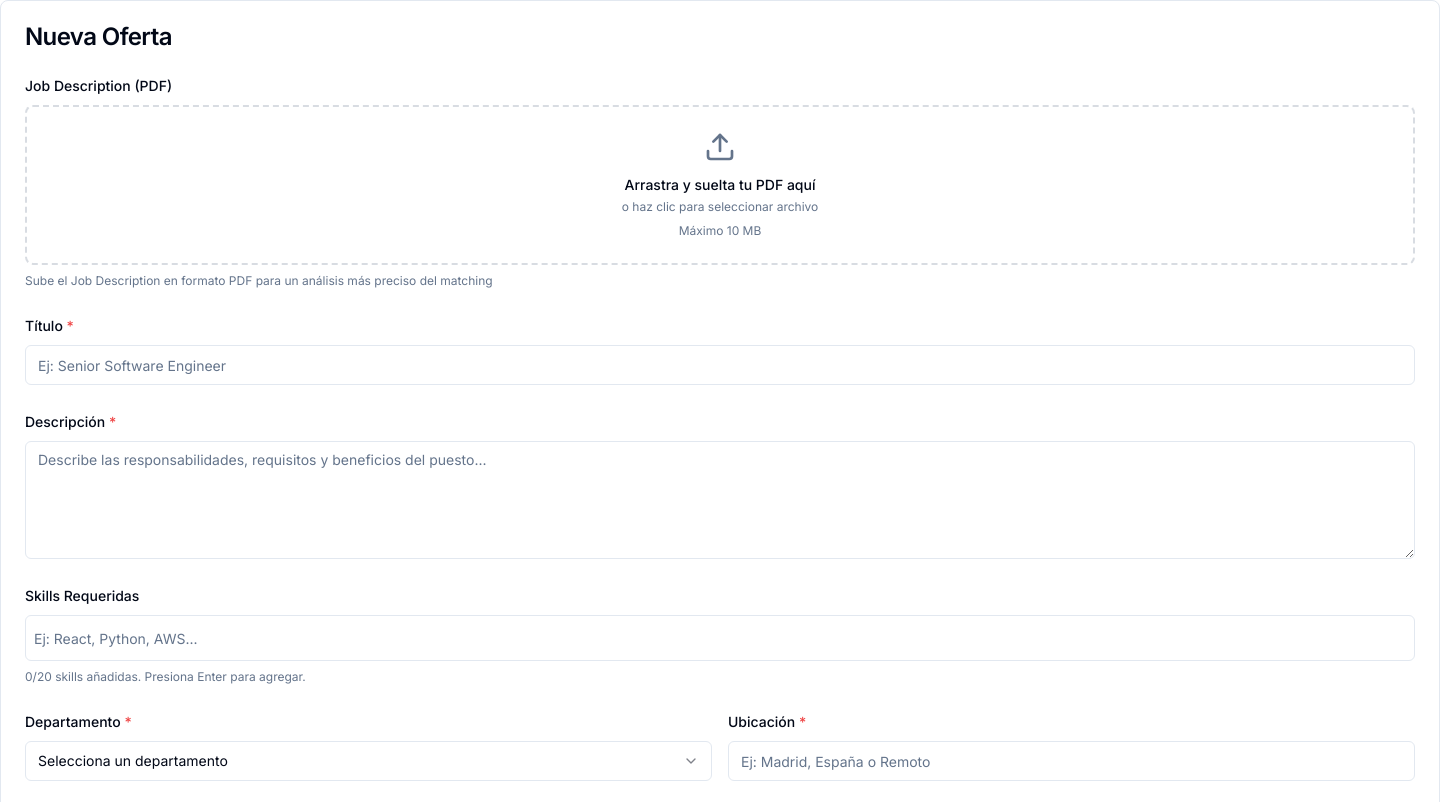
Test case: JobForm › allows adding skills via TagsInput
In the field with placeholder "Ej: React, Python, AWS...": (720, 638) [34, 624, 1406, 652], type "JavaScript"
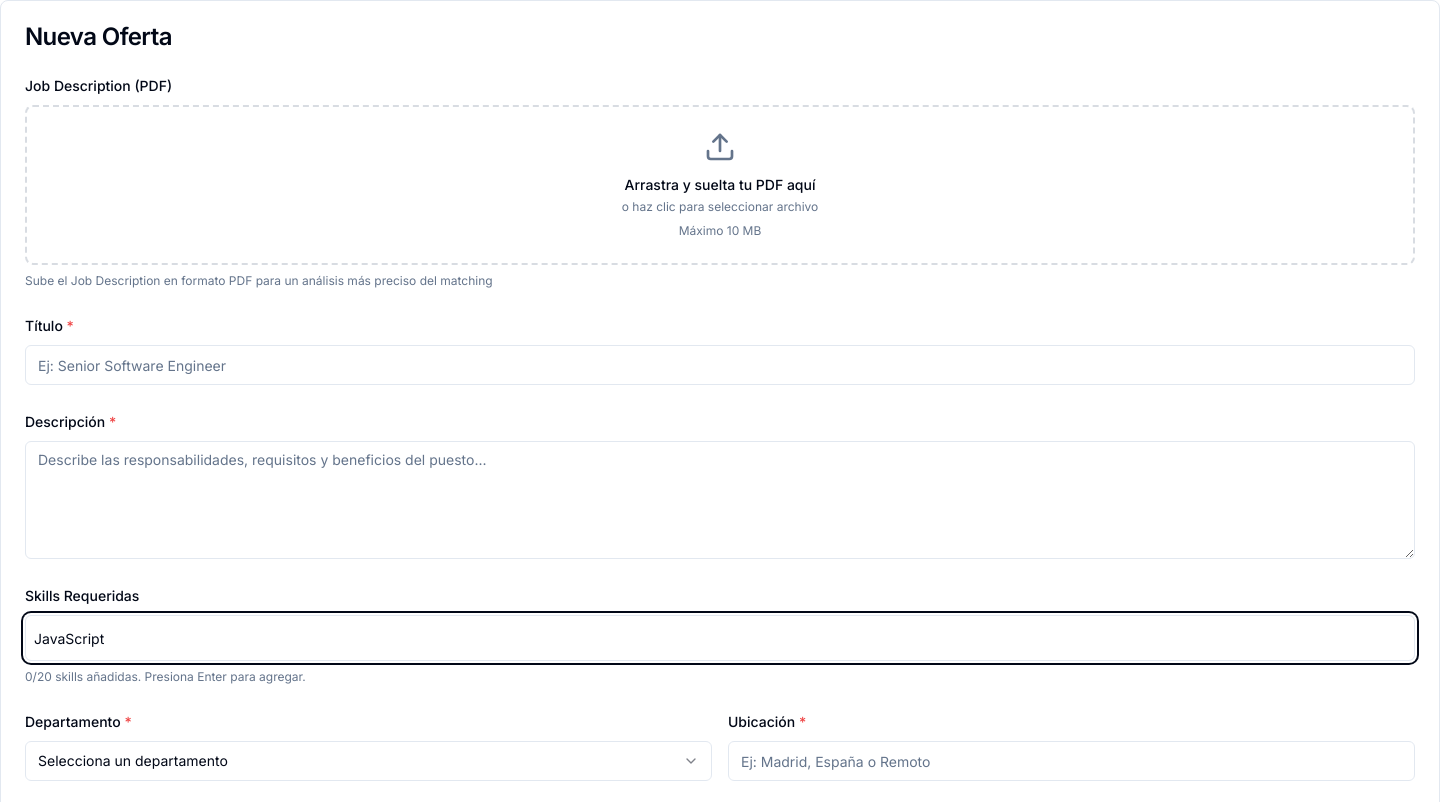
Press Enter in the field with placeholder "Ej: React, Python, AWS...", box [34, 624, 1406, 652]
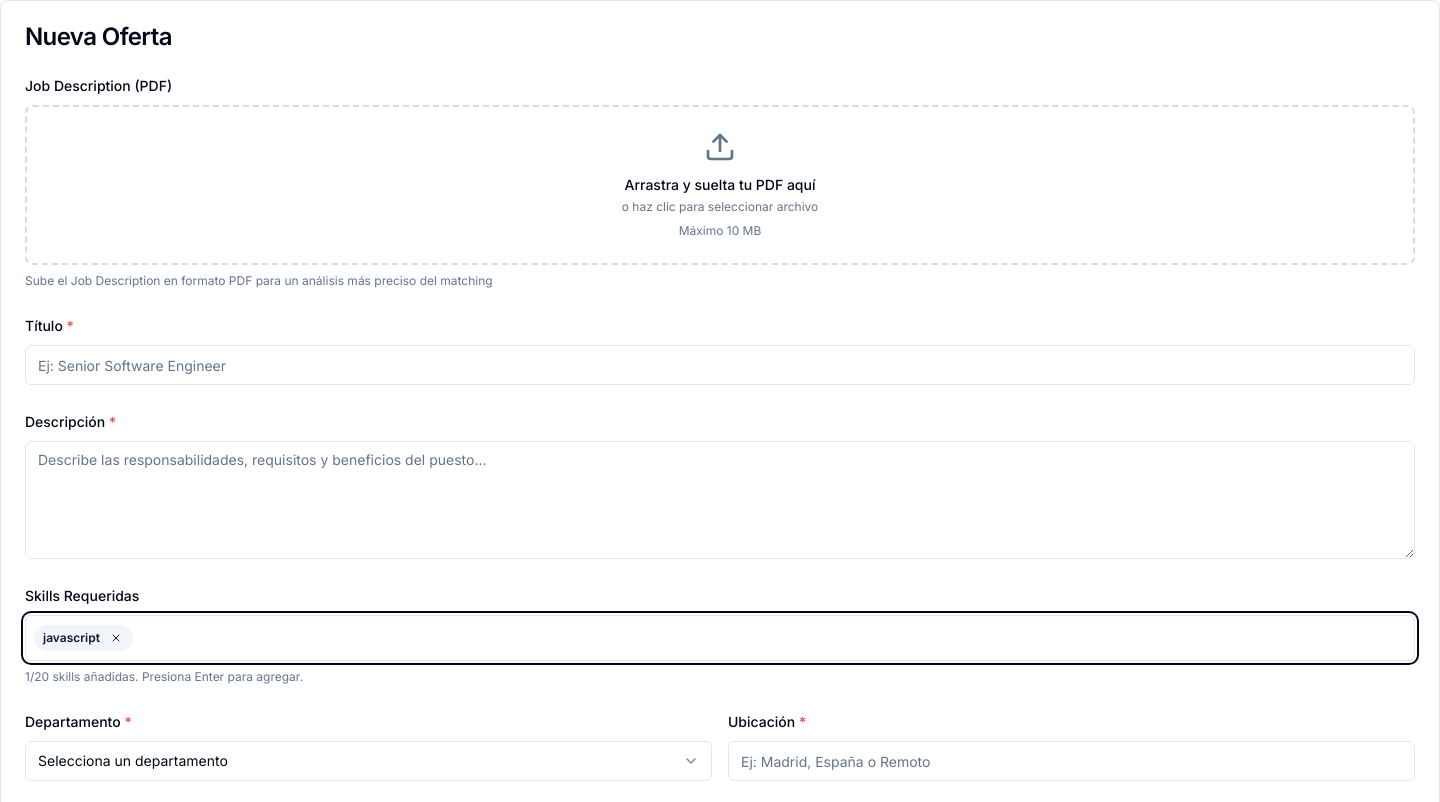
Result: the option "javascript" is shown at [34, 625, 133, 651]
